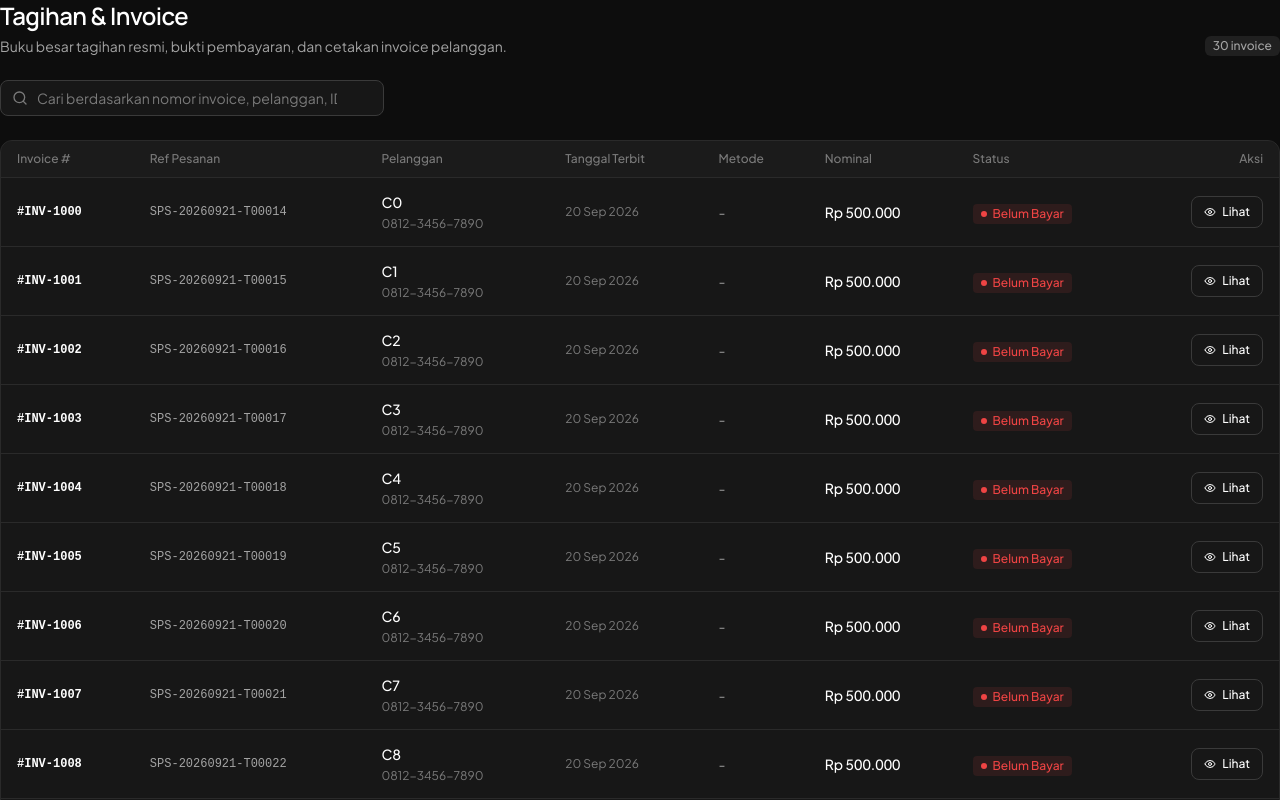
Test: InvoicesView › paginates and searches by invoice number
This screenshot has width=1280, height=800.
Type "INV-1029" into the search field named "cari invoice" at (192, 98), box [0,80,384,116]
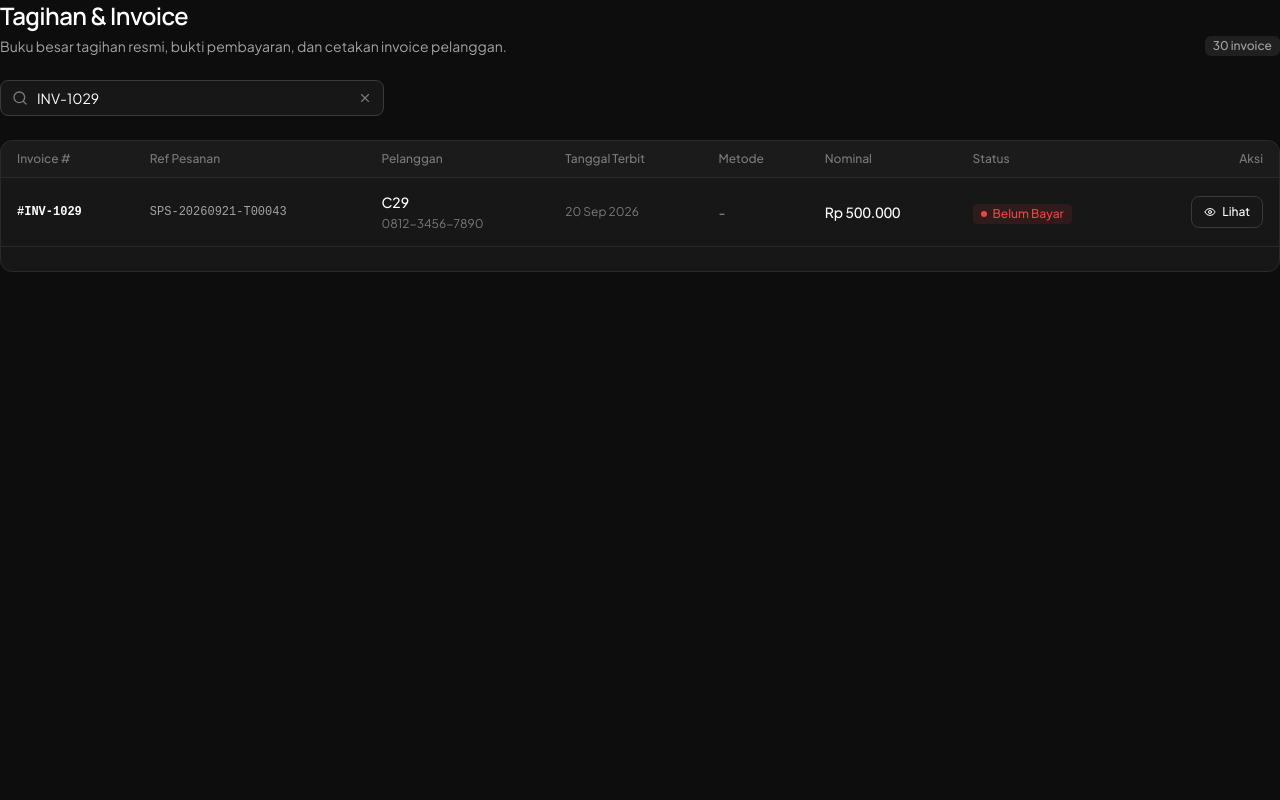
Result: the number of buttons "Lihat" is 1 at [1191,196,1263,228]
